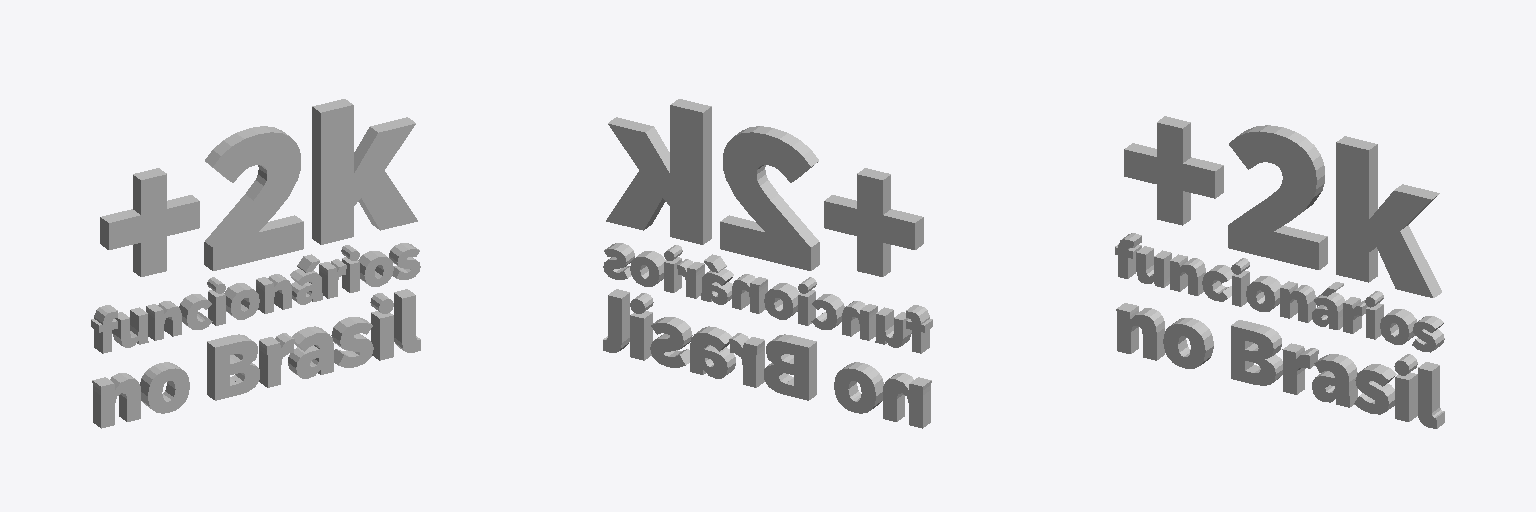
The picture shows the model from 3 angles: view 1: azimuth 30°, elevation 25°; view 2: azimuth 150°, elevation 25°; view 3: azimuth 330°, elevation 25°; orthographic projection.
Parts seen in each view (by area): view 1: obj_0; view 2: obj_0; view 3: obj_0.
Boxes of the visible parts, <box> form: obj_0: <box>91,99,420,428</box>; obj_0: <box>603,99,932,428</box>; obj_0: <box>1115,116,1444,428</box>.
Bounding box in the file's own units: 715 × 558 × 33.